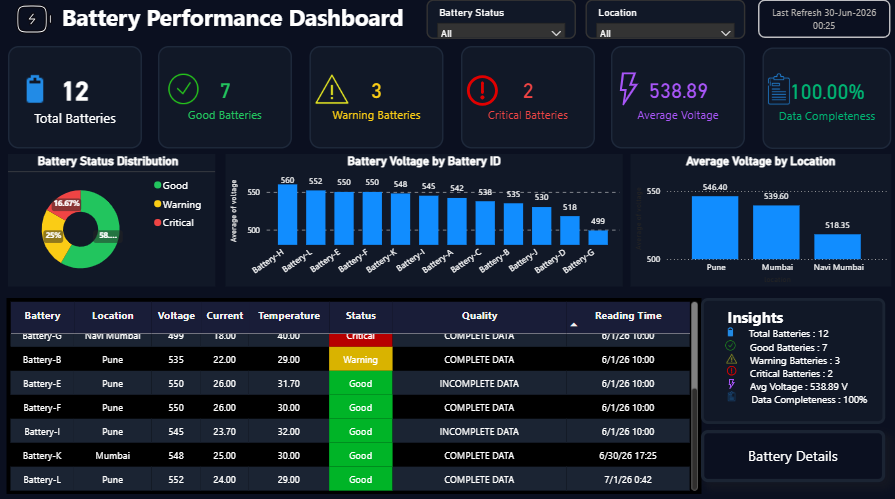

This screenshot's page, from the dashboard's own definition file:
{"tool":"powerbi","page":{"name":"Page 1","canvas":[1280,720],"ordinal":0},"visuals":[{"type":"card","fields":{"Values":["CountNonNull(battery_cleaned.batteryid)"]},"box":[16.7,68.1,190,145],"z":0},{"type":"card","fields":{"Values":["battery_cleaned.Good Batteries"]},"box":[230.7,68.1,190,145],"z":1000},{"type":"card","fields":{"Values":["battery_cleaned.Warning Batteries"]},"box":[444.7,68.1,190,145],"z":2000},{"type":"card","fields":{"Values":["battery_cleaned.Critical Batteries"]},"box":[658.7,68.1,190,145],"z":3000},{"type":"card","fields":{"Values":["battery_cleaned.Average Voltage"]},"box":[872.7,68.1,190,145],"z":4000},{"type":"donutChart","title":"Battery Status Distribution","fields":{"Category":["battery_cleaned.batterystatus"],"Y":["CountNonNull(battery_cleaned.batteryid)"]},"box":[16.7,221.2,293.9,187.9],"z":5000},{"type":"clusteredColumnChart","title":"Average Voltage by Location","fields":{"Category":["battery_cleaned.location"],"Y":["Avg(battery_cleaned.voltage)"]},"box":[900,221.2,369.7,187.9],"z":6000},{"type":"clusteredColumnChart","title":"Battery Voltage by Battery ID","fields":{"Category":["battery_cleaned.batteryname"],"Y":["Avg(battery_cleaned.voltage)"]},"box":[325.8,221.2,563.6,187.9],"z":7000},{"type":"textbox","box":[0,0,599.1,69.5],"z":8000},{"type":"tableEx","fields":{"Values":["battery_cleaned.batteryname","battery_cleaned.location","battery_cleaned.Average Voltage","battery_cleaned.current","battery_cleaned.temperature","battery_cleaned.batterystatus","battery_cleaned.dataquality","battery_cleaned.readingtime"]},"box":[15.2,408.7,873.9,293.5],"z":9000},{"type":"slicer","fields":{"Values":["battery_cleaned.location"]},"box":[835.3,1.5,226.5,55.9],"z":10000},{"type":"textbox","box":[900,421.2,362.1,178.8],"z":10500},{"type":"card","fields":{"Values":["battery_cleaned.Data Completeness"]},"box":[1086.4,69.1,182.7,144.4],"z":11000},{"type":"actionButton","box":[1080.3,3,187.9,54.5],"z":13000},{"type":"slicer","fields":{"Values":["battery_cleaned.batterystatus"]},"box":[611.3,1.5,211.8,55.9],"z":14000},{"type":"actionButton","box":[900,613.6,362.1,74.2],"z":15000},{"type":"image","box":[16.8,2.2,73.9,55.4],"z":16000},{"type":"image","box":[30.9,100.6,46.9,58],"z":17000},{"type":"image","box":[242,100.6,46.9,58],"z":18000},{"type":"image","box":[453.1,100.6,46.9,58],"z":19000},{"type":"image","box":[664.2,100.6,46.9,58],"z":20000},{"type":"image","box":[875.3,100.6,46.9,58],"z":21000},{"type":"image","box":[1086.4,100.6,46.9,58],"z":22000},{"type":"image","box":[951.6,461,15.6,15.6],"z":29000},{"type":"image","box":[952.2,499.6,14.5,14.5],"z":29500},{"type":"image","box":[952,517.8,14.9,14.4],"z":30000},{"type":"image","box":[952,535.8,14.9,14.4],"z":30500},{"type":"image","box":[952.2,553.9,14.5,14.5],"z":31000},{"type":"image","box":[951.6,480.3,15.6,15.6],"z":31500}]}

Visuals, with their boxes in screenshot pixels (x1, y1, x2, y2), scaled from the page's 1280x720 canvas onto the 895x499 screenshot:
card - CountNonNull(battery_cleaned.batteryid): <bbox>12, 47, 145, 148</bbox>
card - battery_cleaned.Good Batteries: <bbox>161, 47, 294, 148</bbox>
card - battery_cleaned.Warning Batteries: <bbox>311, 47, 444, 148</bbox>
card - battery_cleaned.Critical Batteries: <bbox>461, 47, 593, 148</bbox>
card - battery_cleaned.Average Voltage: <bbox>610, 47, 743, 148</bbox>
"Battery Status Distribution" donutChart: <bbox>12, 153, 217, 284</bbox>
"Average Voltage by Location" clusteredColumnChart: <bbox>629, 153, 888, 284</bbox>
"Battery Voltage by Battery ID" clusteredColumnChart: <bbox>228, 153, 622, 284</bbox>
textbox: <bbox>0, 0, 419, 48</bbox>
tableEx - battery_cleaned.batteryname x battery_cleaned.location: <bbox>11, 283, 622, 487</bbox>
slicer - battery_cleaned.location: <bbox>584, 1, 742, 40</bbox>
textbox: <bbox>629, 292, 882, 416</bbox>
card - battery_cleaned.Data Completeness: <bbox>760, 48, 887, 148</bbox>
actionButton: <bbox>755, 2, 887, 40</bbox>
slicer - battery_cleaned.batterystatus: <bbox>427, 1, 576, 40</bbox>
actionButton: <bbox>629, 425, 882, 477</bbox>
image: <bbox>12, 2, 63, 40</bbox>
image: <bbox>22, 70, 54, 110</bbox>
image: <bbox>169, 70, 202, 110</bbox>
image: <bbox>317, 70, 350, 110</bbox>
image: <bbox>464, 70, 497, 110</bbox>
image: <bbox>612, 70, 645, 110</bbox>
image: <bbox>760, 70, 792, 110</bbox>
image: <bbox>665, 319, 676, 330</bbox>
image: <bbox>666, 346, 676, 356</bbox>
image: <bbox>666, 359, 676, 369</bbox>
image: <bbox>666, 371, 676, 381</bbox>
image: <bbox>666, 384, 676, 394</bbox>
image: <bbox>665, 333, 676, 344</bbox>
